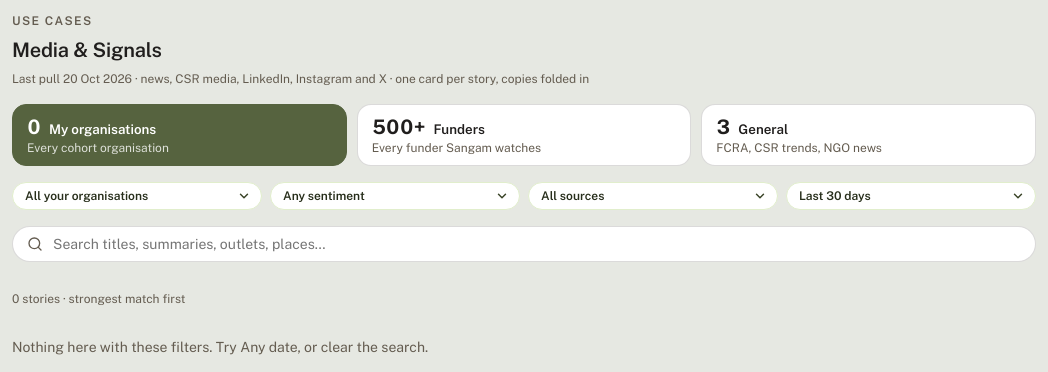
Test: MediaView › sends the filters and search with the request
expect the text "Nothing here with these filters" is shown: met, box x1=12 y1=339 x2=428 y2=355
Select "Seva" in the dropdown named "Organisation". click: (137, 196)
box: x1=12 y1=182 x2=262 y2=210
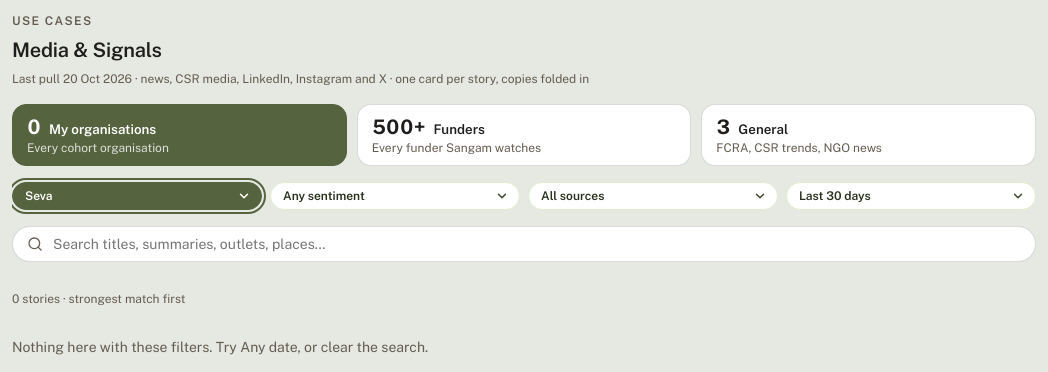
Select "Negative" in the dropdown named "Sentiment". click: (395, 196)
box: x1=270 y1=182 x2=520 y2=210
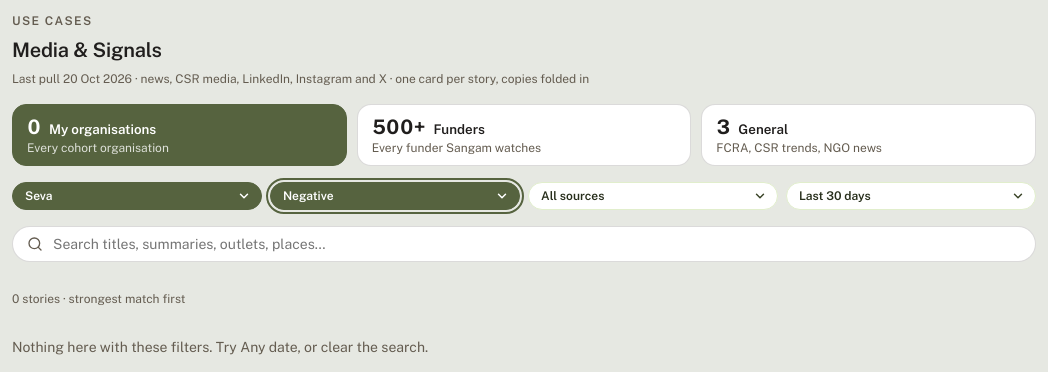
Select "Social" in the dropdown named "Source". click: (653, 196)
box: x1=528 y1=182 x2=778 y2=210
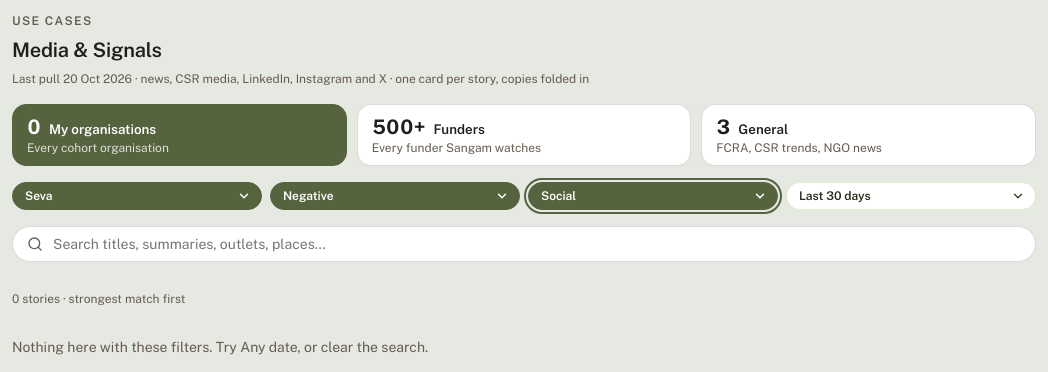
Type "flood" into the search field. click: (536, 244)
box: x1=51 y1=235 x2=1021 y2=253
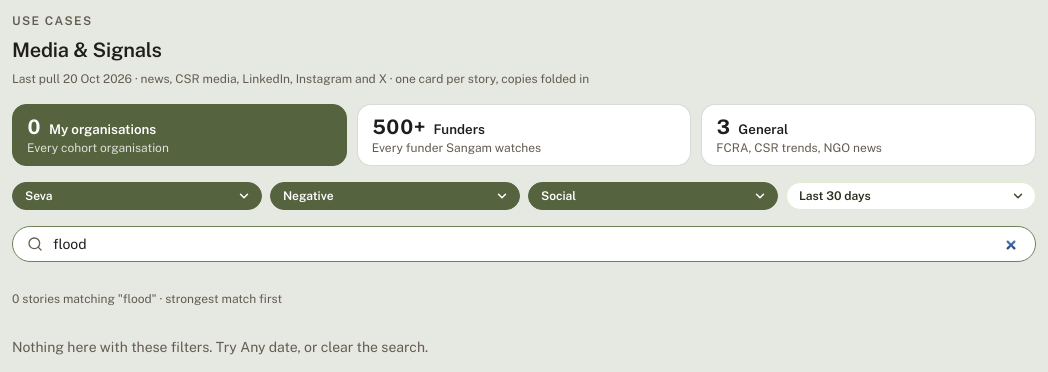
expect the text "0 stories matching \"flood\" · strongest match first" is shown: met, box x1=12 y1=292 x2=282 y2=306
